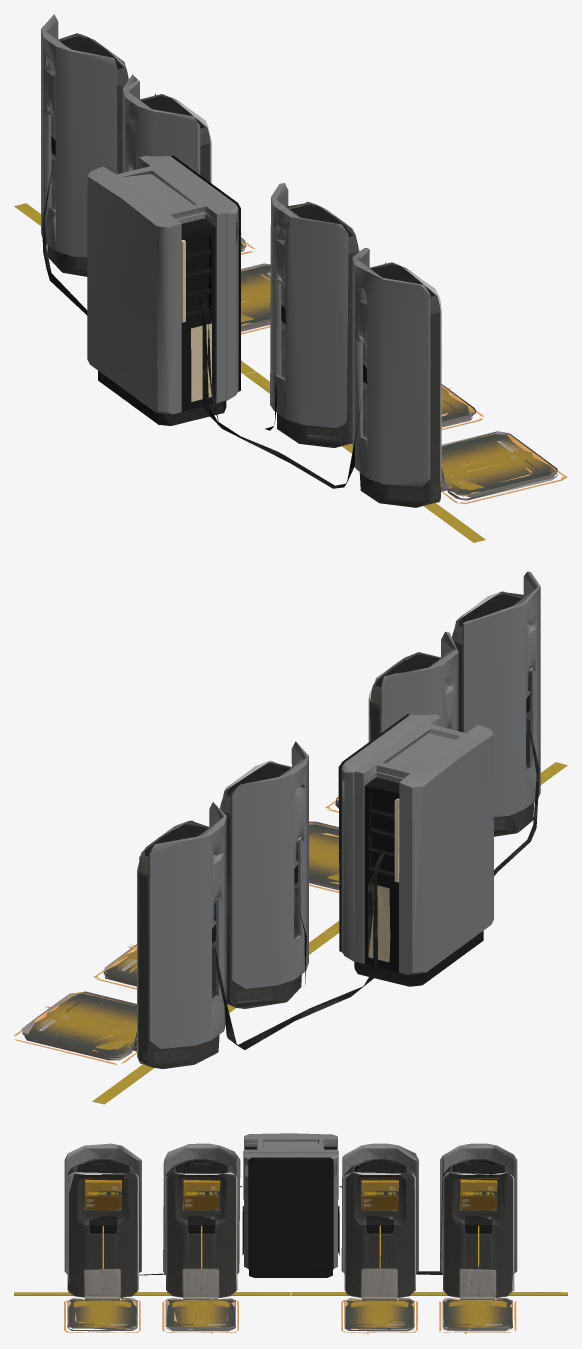
File: amr_charger.glb
3 renders of one model, top to bottom at view 1: azimuth 30°, elevation 25°; view 2: azimuth 150°, elevation 25°; view 3: azimuth 270°, elevation 25°, orthographic. The views are drawn at different scales.
Parts seen in each view (by area): view 1: amr_charger_mesh; view 2: amr_charger_mesh; view 3: amr_charger_mesh.
Part boxes in pixels (box(x1,y1,x2,y2)): amr_charger_mesh: box(14, 14, 567, 542); amr_charger_mesh: box(14, 571, 567, 1104); amr_charger_mesh: box(14, 1133, 567, 1334).
Size of the model in its own units: 1.97 by 1.62 by 5.9.
11 materials, 5 textured.
